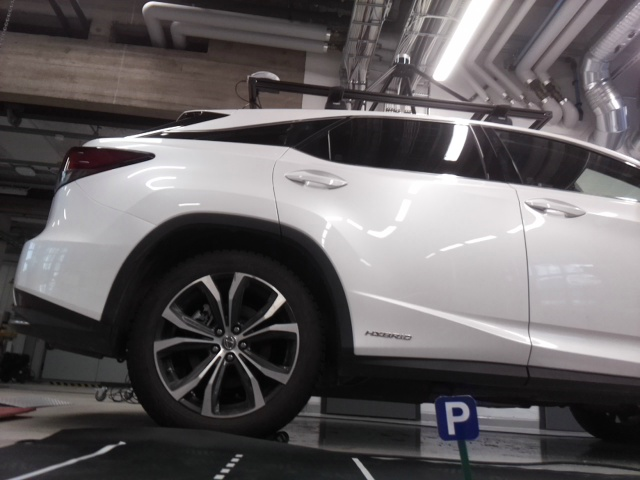Parking: (434, 395, 480, 441)
